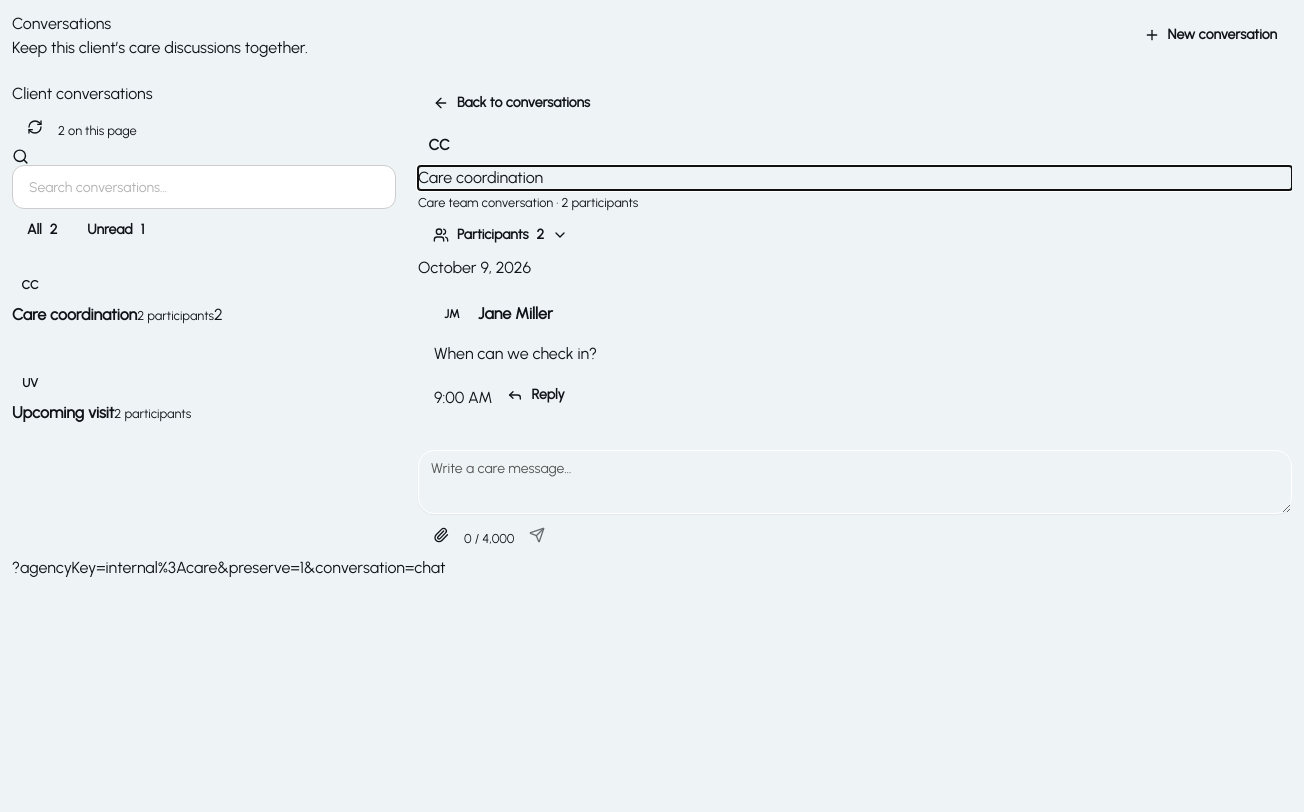
Test case: freezes an uncertain send and retries the same payload and operation receipt
The width and height of the screenshot is (1304, 812).
Expected: the text "When can we check in?" is shown, [434,344,597,363]
Type "A follow-up." into the text box labelled "message".
click(855, 482); type("A follow-up.")  # box [418,450,1292,514]
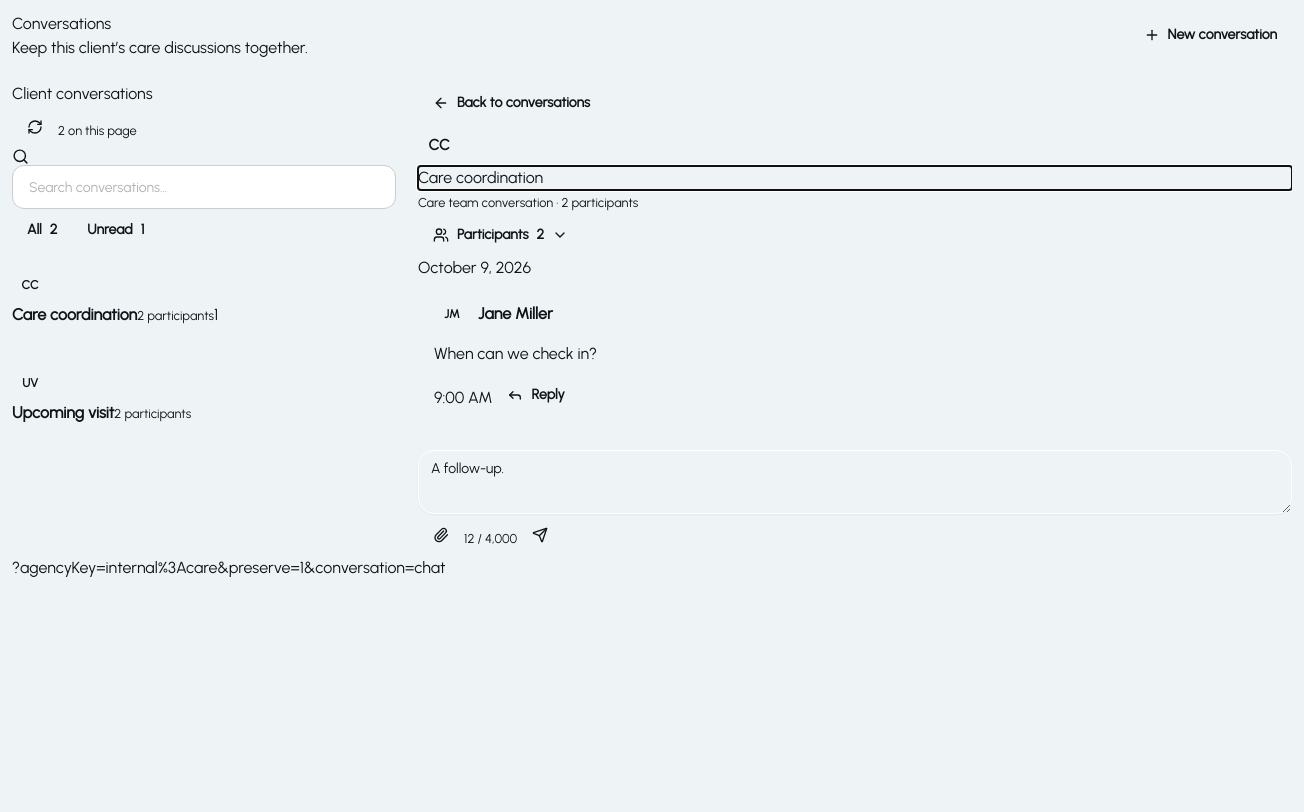
Click the button named "Send message".
click(540, 535)  # box [517,514,563,556]
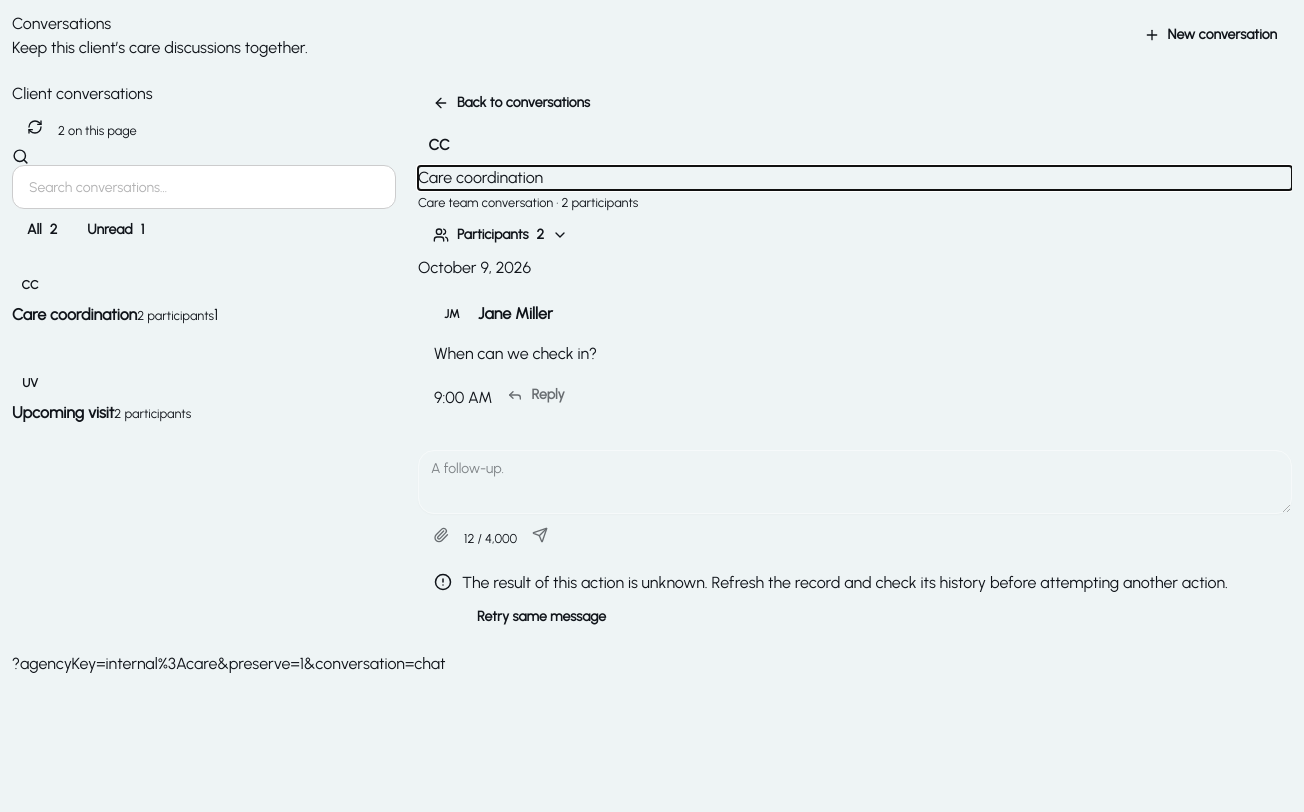
Result: the text box named "message" is disabled at [418,450,1292,514]
Click the button "Retry same message".
click(542, 617)  # box [462,596,621,638]
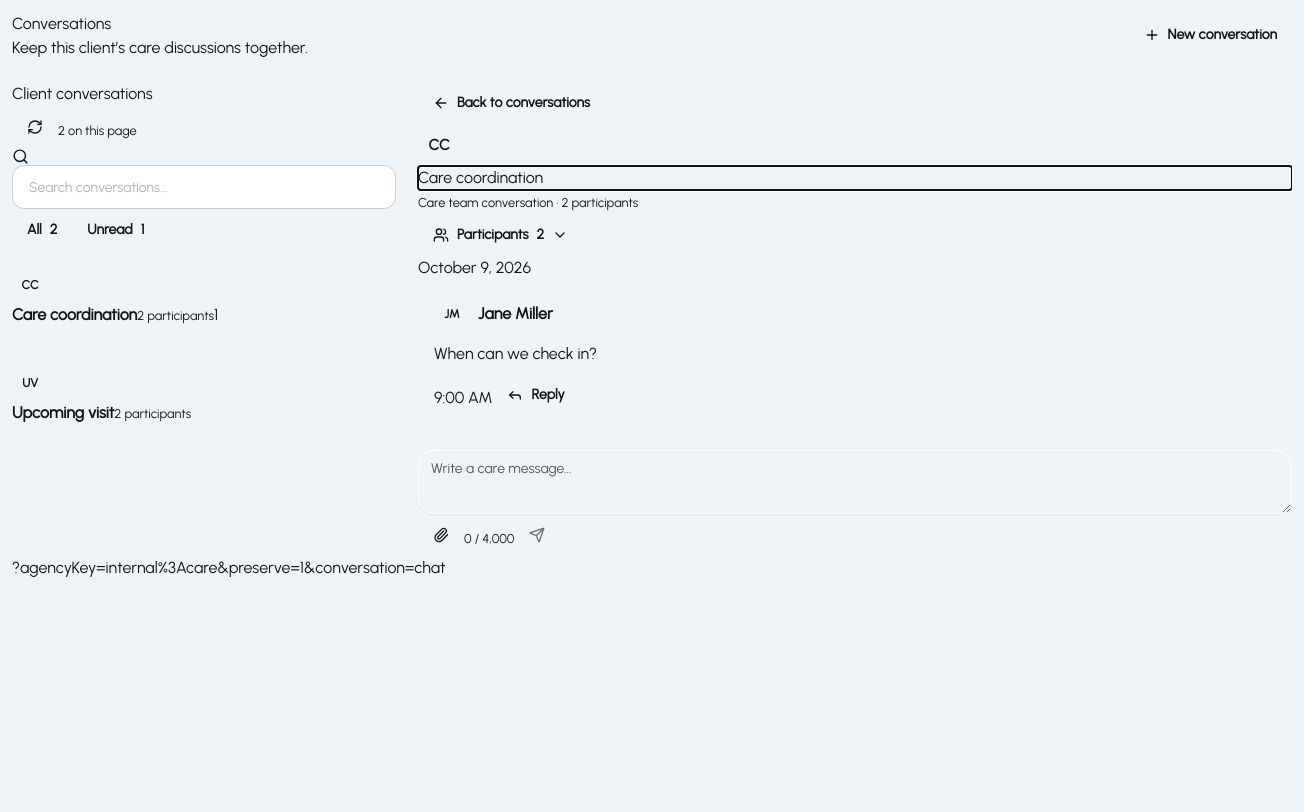
Result: the text box labelled "message" is empty at [418,450,1292,514]
